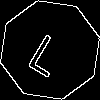L: (25, 25, 73, 78)
